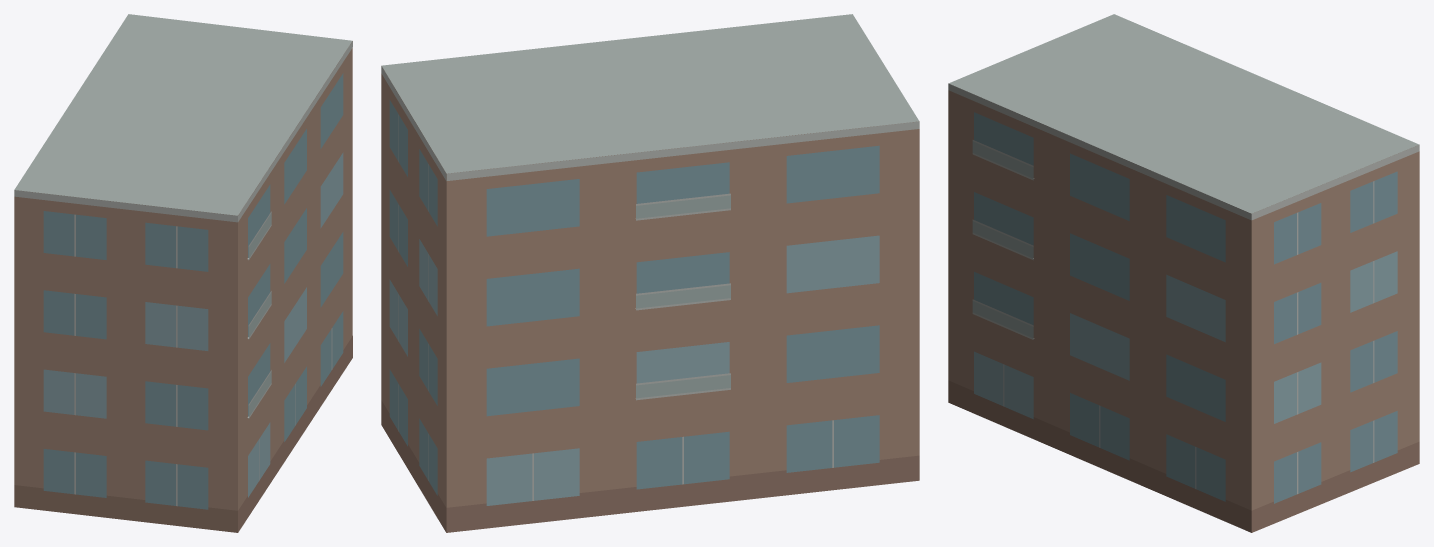
File: survey-upis-32652479.glb
The picture shows the model from 3 angles, left to right: view 1: azimuth 30°, elevation 25°; view 2: azimuth 150°, elevation 25°; view 3: azimuth 270°, elevation 25°; orthographic projection. The views are drawn at different scales.
Visible parts, largest first — view 1: survey-upis-32652479.tmp; view 2: survey-upis-32652479.tmp; view 3: survey-upis-32652479.tmp.
Part boxes in pixels (box(x1,y1,x2,y2)): survey-upis-32652479.tmp: box(14, 14, 352, 532); survey-upis-32652479.tmp: box(381, 14, 919, 532); survey-upis-32652479.tmp: box(948, 14, 1419, 532).
Bounding box in the file's own units: 15.58 × 11.6 × 15.52.
